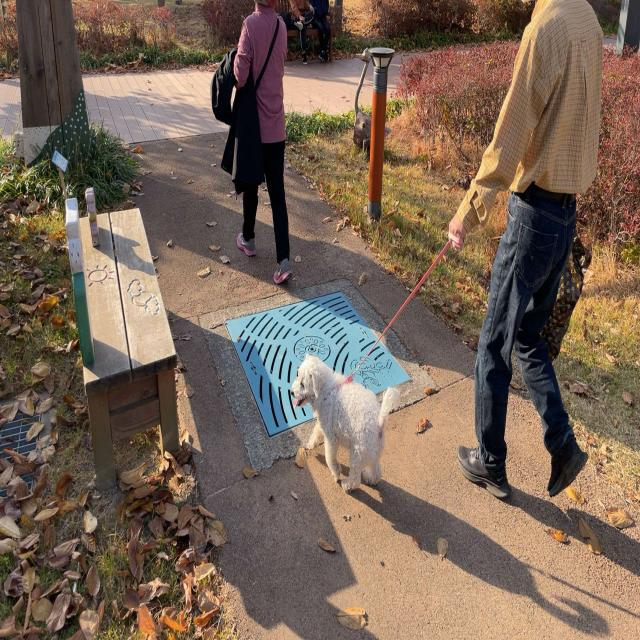Leashed_Dog: (289, 195, 512, 494)
